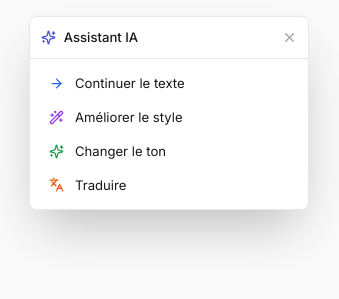
Test: AIContextMenu › Error Handling › should display generic error for unknown errors
Click the button "Continuer le texte": [169, 84] box [38, 67, 300, 101]
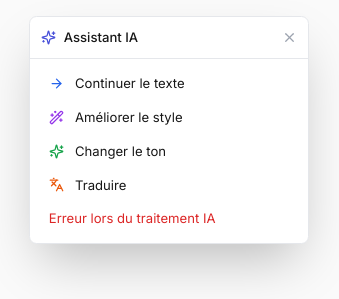
Result: the text "Erreur lors du traitement IA" is shown at [49, 210, 216, 226]
